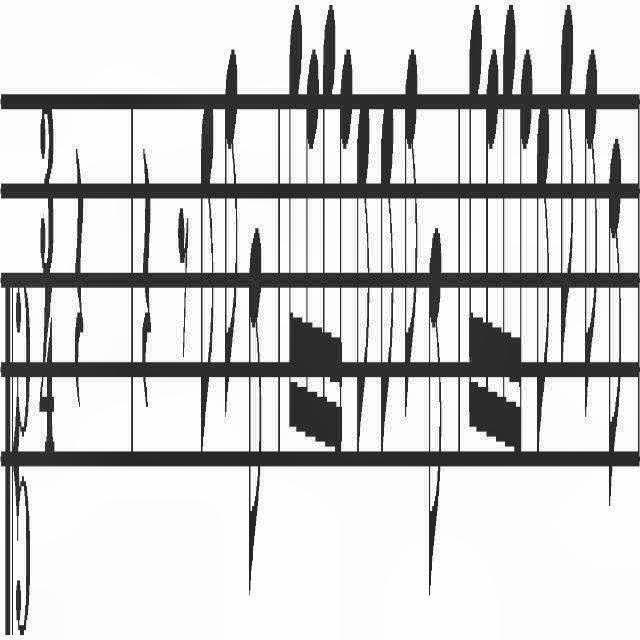Eighth-note: (606, 128, 622, 514), (583, 46, 599, 426), (557, 1, 573, 380), (380, 88, 396, 456), (428, 212, 442, 604), (200, 93, 214, 473), (224, 43, 238, 417), (536, 99, 550, 469), (248, 228, 262, 596), (356, 90, 370, 458), (404, 52, 418, 420)
Eighth-rest: (178, 195, 190, 365)
Quarter-rest: (72, 129, 86, 415), (142, 134, 152, 426)
Sixteenth-note: (500, 6, 516, 478), (304, 34, 320, 470), (516, 34, 532, 470), (336, 36, 352, 464), (482, 41, 498, 459), (321, 0, 335, 476), (468, 0, 482, 460), (288, 0, 302, 444)
